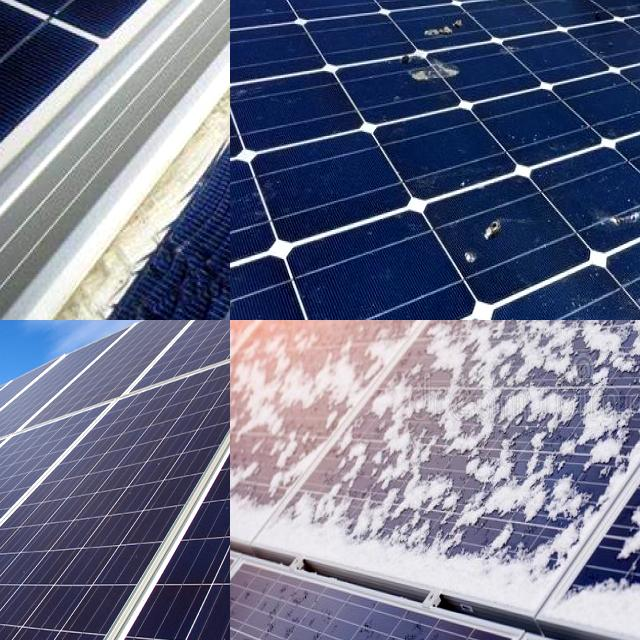bird: (440, 214, 534, 282), (572, 176, 640, 250), (398, 9, 478, 41), (396, 60, 480, 89), (592, 0, 632, 47)
crack: (0, 465, 131, 640), (0, 503, 54, 630)
panel: (282, 516, 568, 614), (433, 374, 622, 490), (322, 370, 424, 500), (230, 334, 312, 445), (278, 320, 421, 371), (430, 320, 555, 363), (432, 320, 536, 371), (557, 320, 640, 371), (569, 320, 640, 363), (230, 493, 265, 542)
